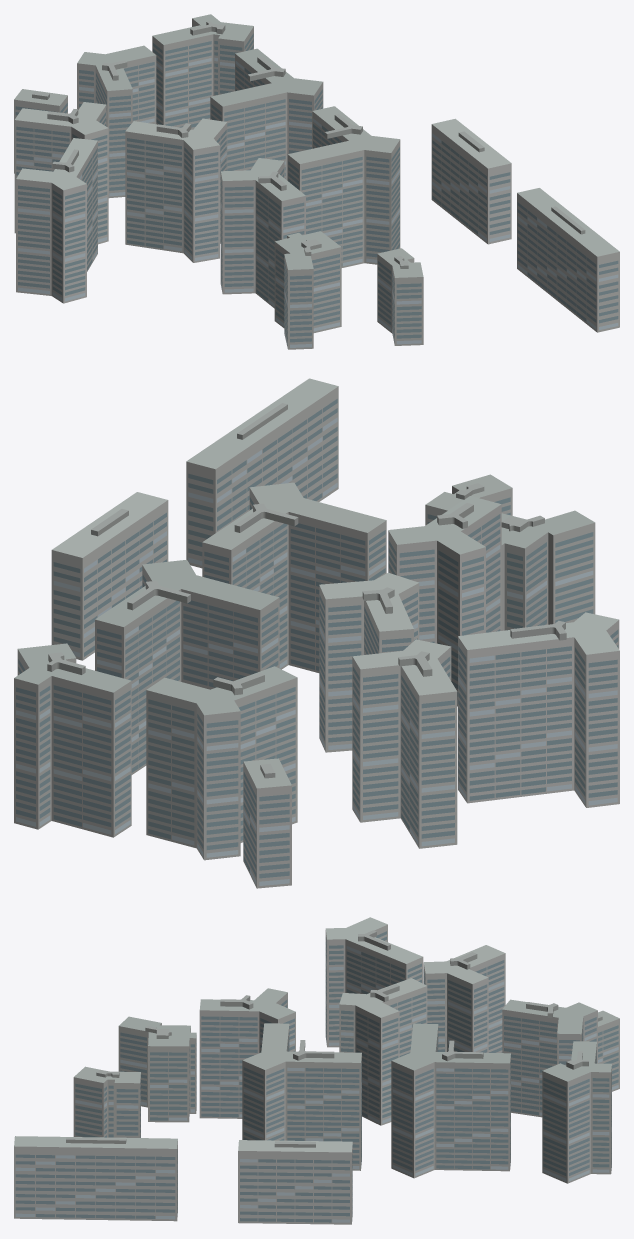
Rendered from apt-a15883402.glb.
The picture shows the model from 3 angles, top to bottom: view 1: azimuth 30°, elevation 25°; view 2: azimuth 150°, elevation 25°; view 3: azimuth 270°, elevation 25°; orthographic projection. The views are drawn at different scales.
Parts seen in each view (by area): view 1: apt-a15883402; view 2: apt-a15883402; view 3: apt-a15883402.
Boxes of the visible parts, left/top/right/bottom form: apt-a15883402: left=14, top=14, right=619, bottom=349; apt-a15883402: left=14, top=378, right=619, bottom=888; apt-a15883402: left=14, top=917, right=619, bottom=1224.
Bounding box in the file's own units: 221 × 58 × 283.
